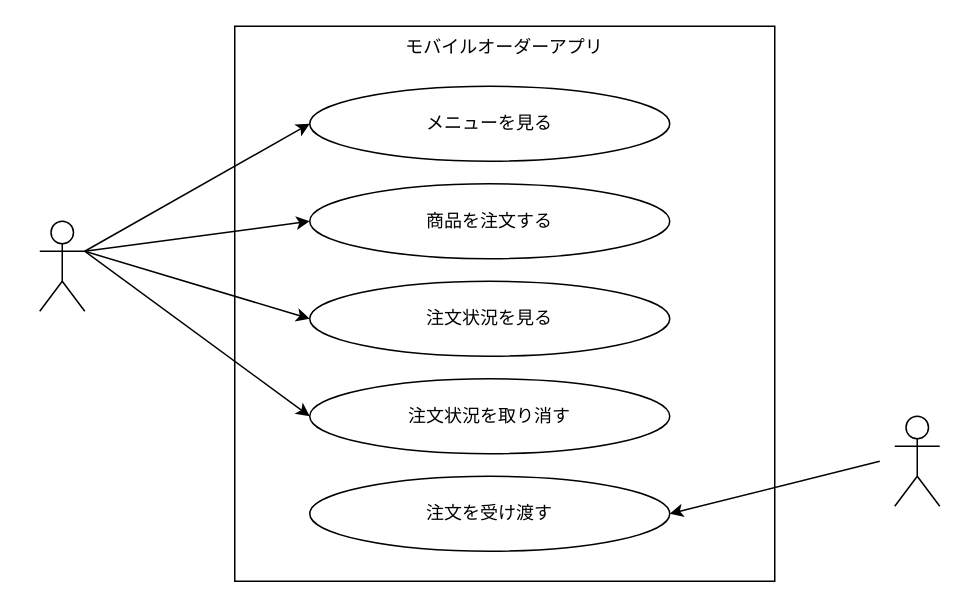
Image size: 966x608. Some labels were removed from this diagram. The shapes that lost their labels are listed below. From the top down, each one's centre as x and y in pixels, then its label:
At (61,265): "お客さま".
At (916,460): "店員".
